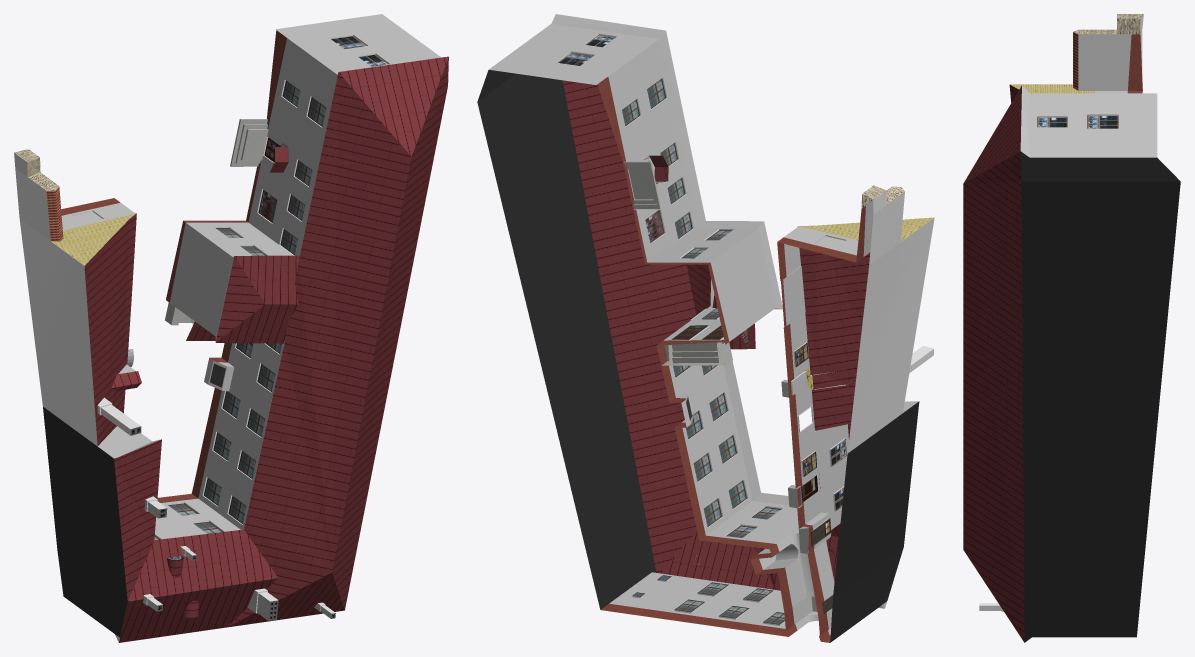
Rendered from Rahukohtu_5.obj.
3 views of the same model, side by side, from view 1: azimuth 30°, elevation 25°; view 2: azimuth 150°, elevation 25°; view 3: azimuth 270°, elevation 25° (orthographic). The views are drawn at different scales.
Visible parts, largest first — view 1: Rahukohtu_5; view 2: Rahukohtu_5; view 3: Rahukohtu_5.
Part boxes in pixels (<box>): Rahukohtu_5: <box>14,14,448,642</box>; Rahukohtu_5: <box>477,14,934,642</box>; Rahukohtu_5: <box>963,14,1180,642</box>.
Bounding box in the file's own units: 31.18 × 43.05 × 15.33.
